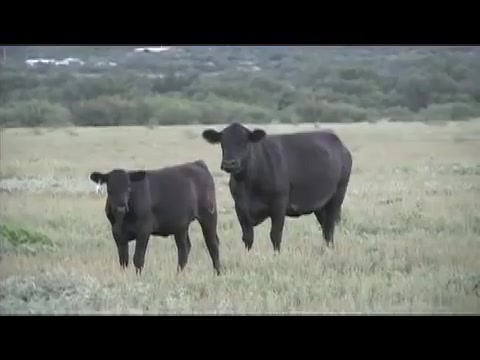cow: (202, 122, 354, 255), (91, 162, 225, 277)
